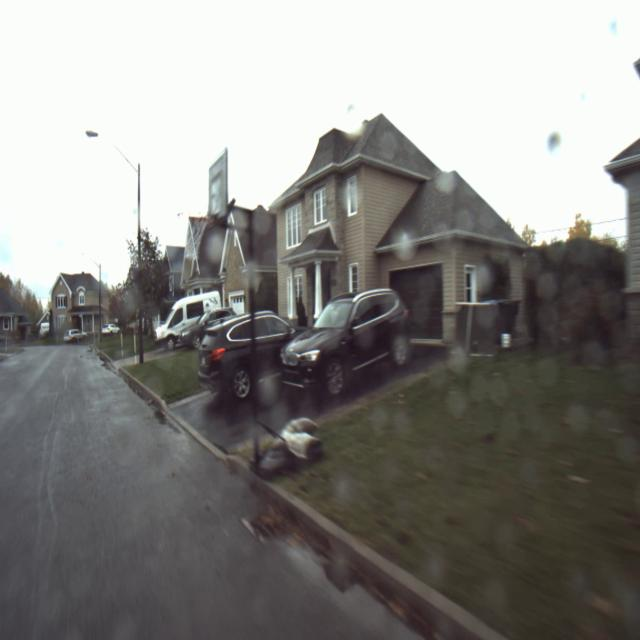car: (273, 276, 411, 384)
